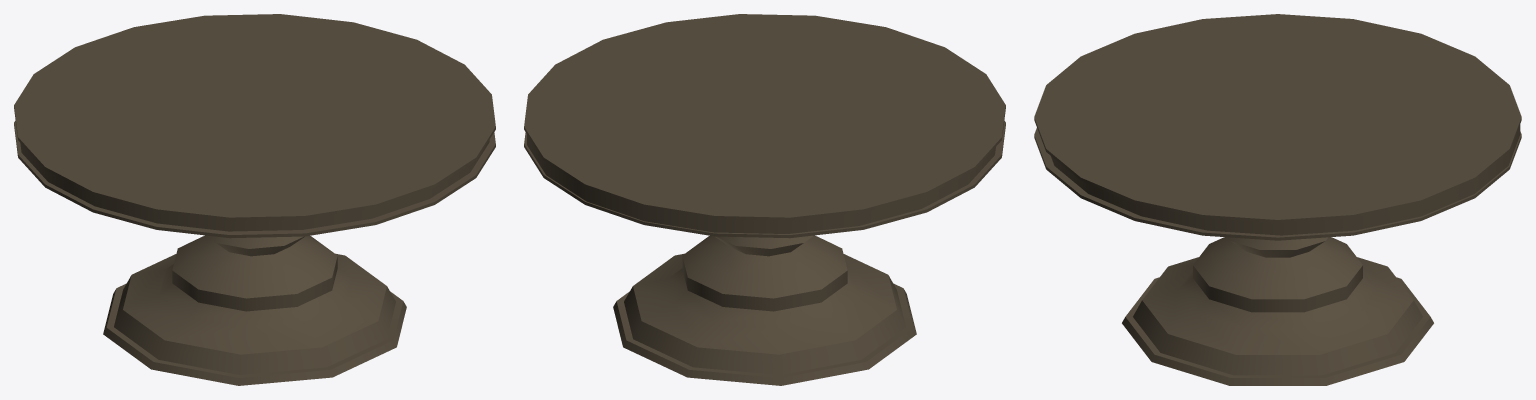
Rendered from furn-coffee-table-round-wood.glb.
3 renders of one model, left to right at view 1: azimuth 30°, elevation 25°; view 2: azimuth 150°, elevation 25°; view 3: azimuth 270°, elevation 25°, orthographic.
Parts seen in each view (by area): view 1: Table_RoundSmall; view 2: Table_RoundSmall; view 3: Table_RoundSmall.
Boxes of the visible parts, x1,y1,x2,y2 form: Table_RoundSmall: [14, 14, 495, 385]; Table_RoundSmall: [524, 14, 1005, 385]; Table_RoundSmall: [1034, 14, 1521, 385].
Size of the model in its own units: 0.9 by 0.42 by 0.9.
